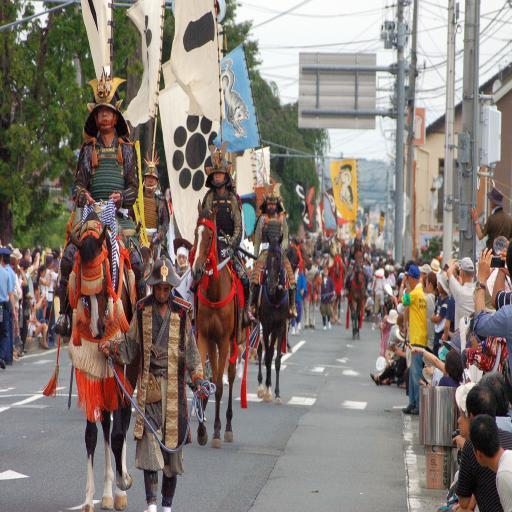horse: (66, 209, 132, 512), (189, 196, 239, 451), (255, 232, 289, 406), (284, 238, 313, 334), (346, 244, 367, 342), (329, 250, 344, 328), (138, 236, 157, 292)
